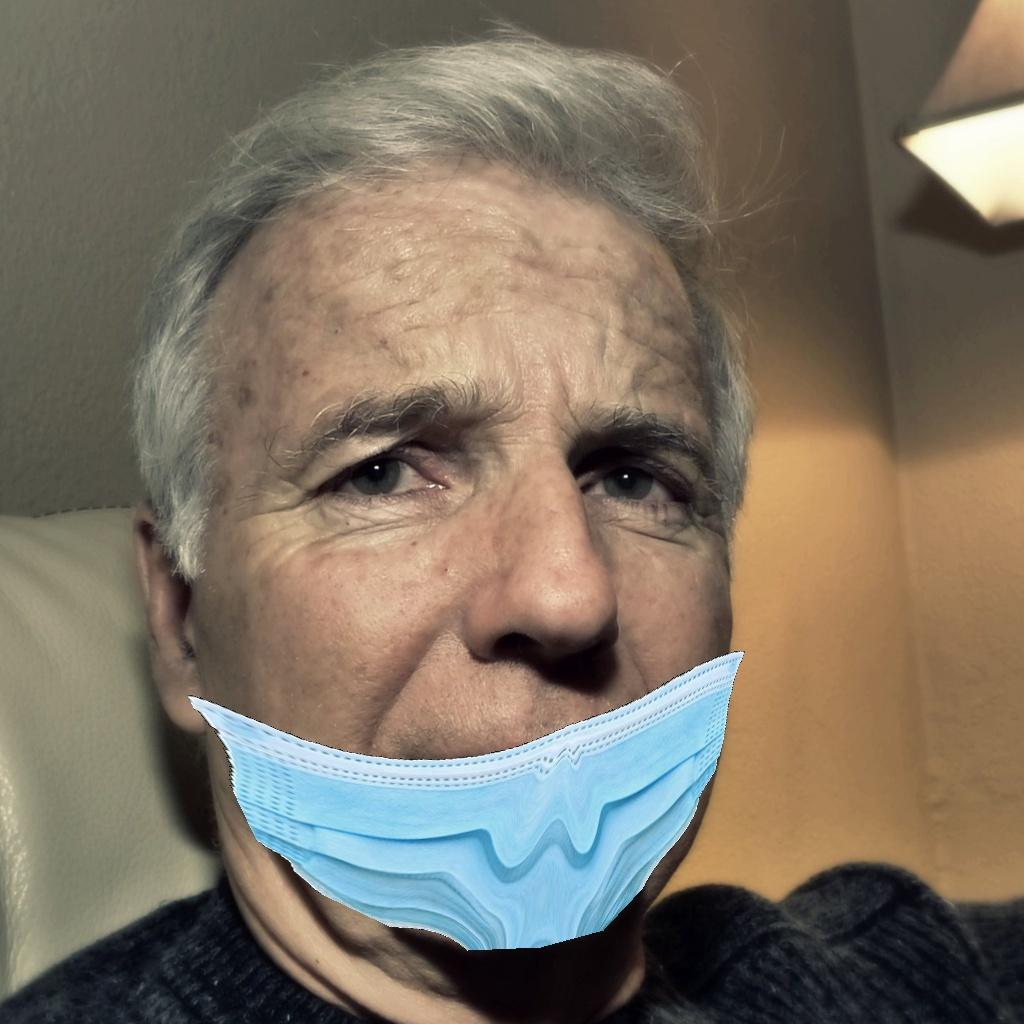Máscara Incorreta: (199, 310, 739, 932)
